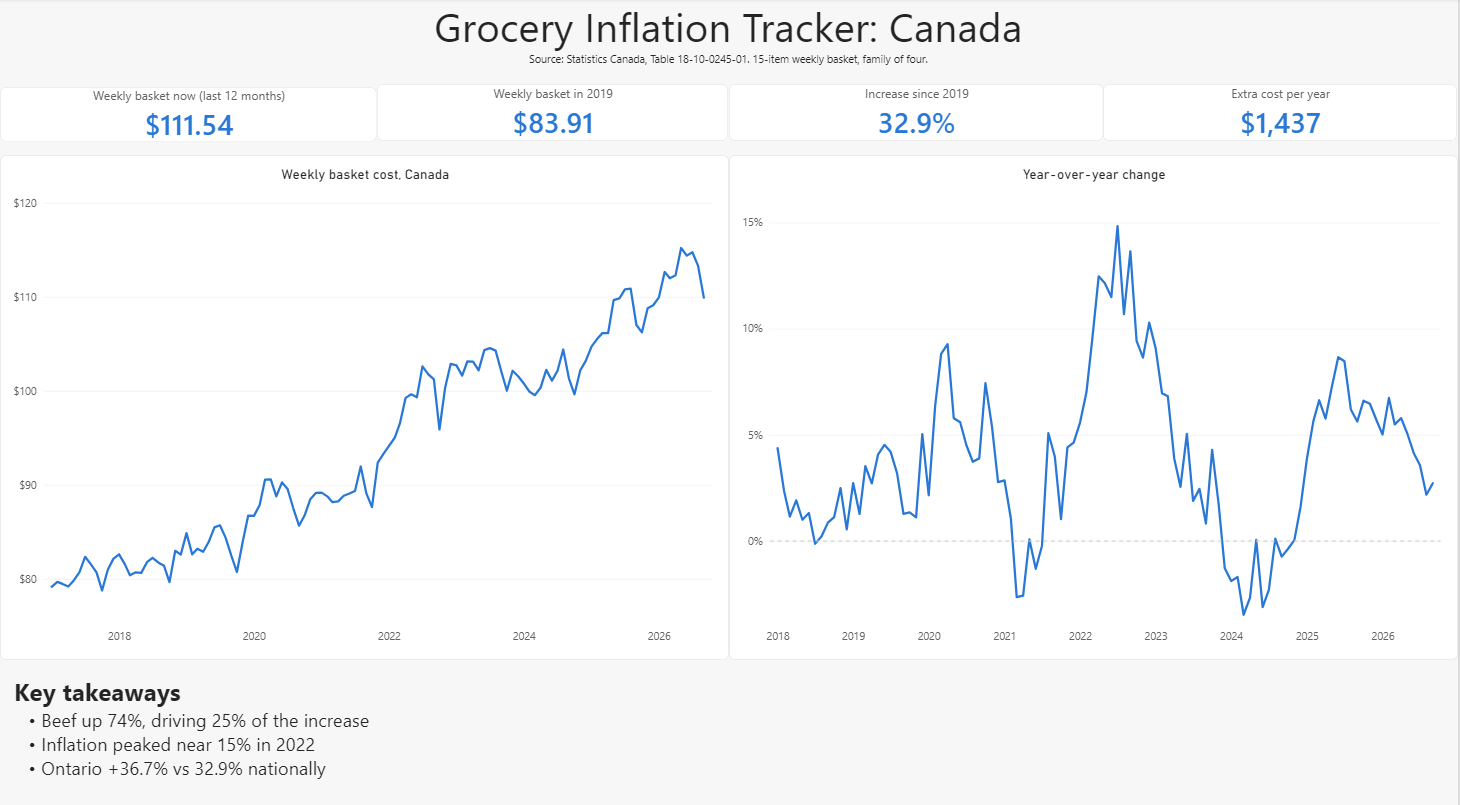

This screenshot's page, from the dashboard's own definition file:
{"tool":"powerbi","page":{"name":"Overview","canvas":[1920,1080],"ordinal":0},"visuals":[{"type":"cardVisual","fields":{"Data":["prices_clean.Avg Last 12M"]},"box":[0,116.7,496,72.9],"z":0},{"type":"cardVisual","fields":{"Data":["prices_clean.Avg 2019"]},"box":[496,113.8,462.5,75.9],"z":1000},{"type":"cardVisual","fields":{"Data":["prices_clean.% Change vs 2019"]},"box":[960,113.8,493.1,75.9],"z":2000},{"type":"cardVisual","fields":{"Data":["prices_clean.Extra per Year"]},"box":[1453.1,113.8,466.9,75.9],"z":3000},{"type":"lineChart","title":"Weekly basket cost, Canada","fields":{"Category":["Date.MonthStart"],"Y":["prices_clean.Weekly Basket Cost"]},"box":[0,207.2,960,665.3],"z":4000},{"type":"lineChart","title":"Year-over-year change","fields":{"Category":["Date.MonthStart"],"Y":["prices_clean.YoY %"]},"box":[960,207.2,960,665.3],"z":5000},{"type":"textbox","box":[19,872.5,920.6,207.2],"z":6000},{"type":"textbox","box":[561.7,0,796.6,116.7],"z":7000}]}

Visuals, with their boxes in screenshot pixels (x1, y1, x2, y2), scaled from the page's 1920x1080 canvas onto the 1460x805 screenshot:
cardVisual - prices_clean.Avg Last 12M: detection(0, 87, 377, 141)
cardVisual - prices_clean.Avg 2019: detection(377, 85, 729, 141)
cardVisual - prices_clean.% Change vs 2019: detection(730, 85, 1105, 141)
cardVisual - prices_clean.Extra per Year: detection(1105, 85, 1459, 141)
"Weekly basket cost, Canada" lineChart: detection(0, 154, 730, 650)
"Year-over-year change" lineChart: detection(730, 154, 1459, 650)
textbox: detection(14, 650, 714, 804)
textbox: detection(427, 0, 1033, 87)
